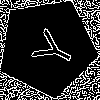Y: (22, 22, 78, 73)
